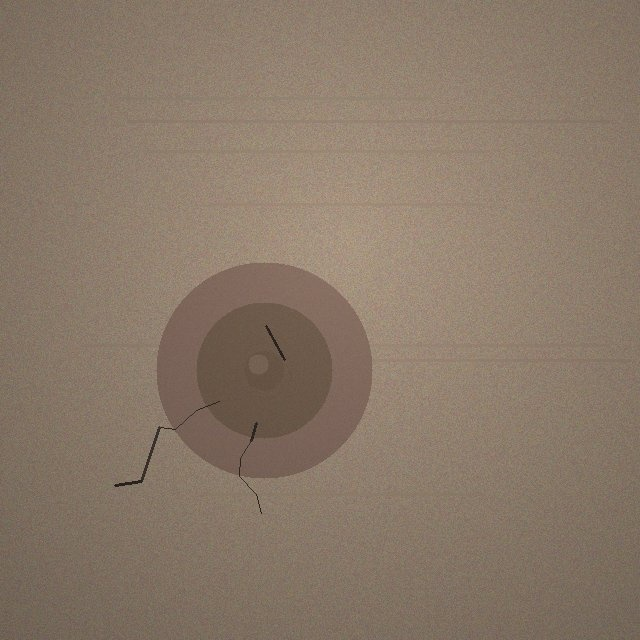crack: (156, 262, 372, 478)
